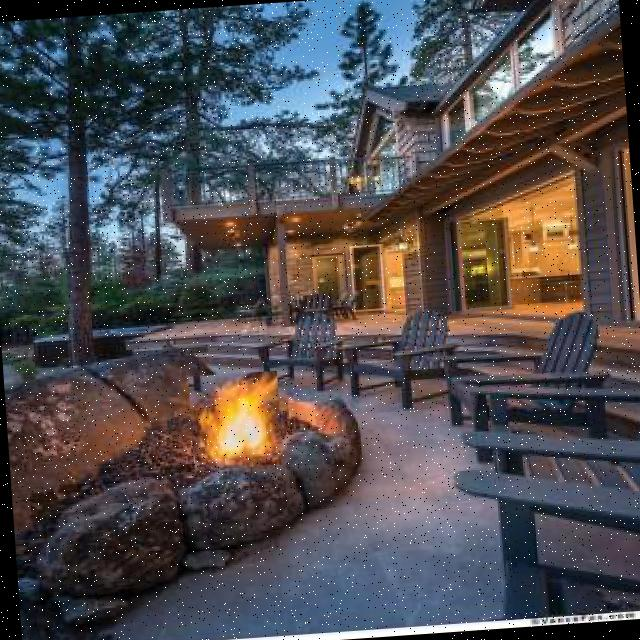fire: (188, 370, 283, 470)
